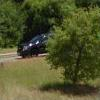Tree: (47, 9, 100, 100)
